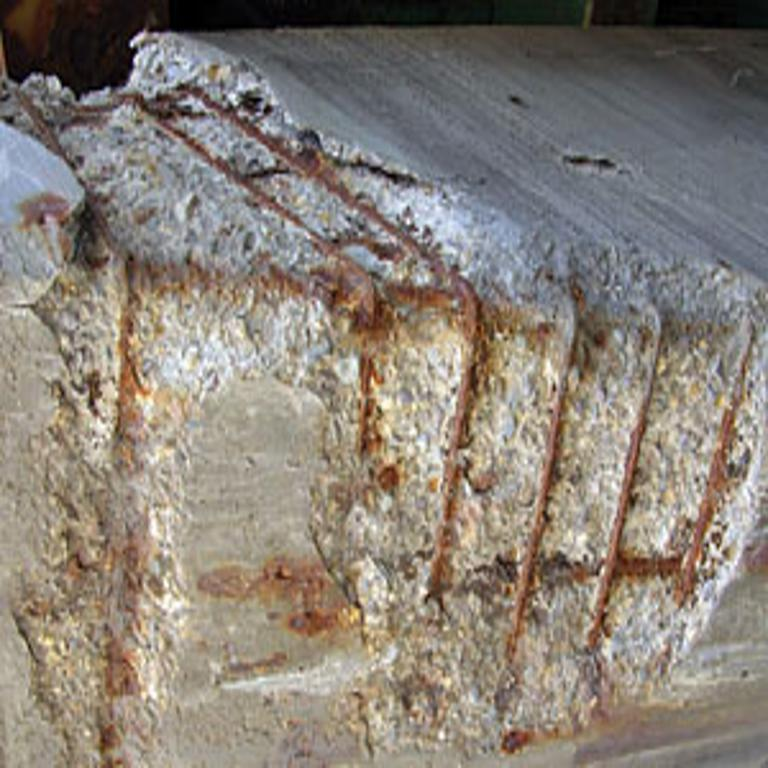spalling: (4, 34, 768, 768)
